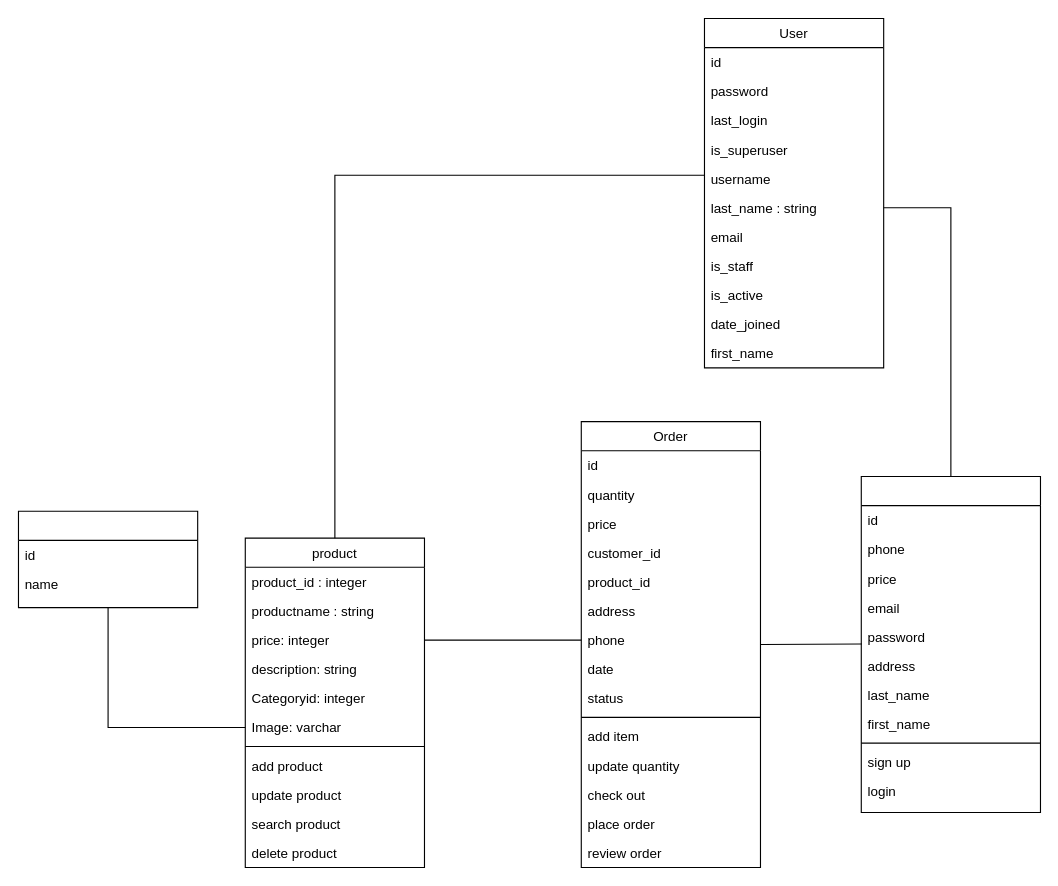
This 1058x886 diagram has some shape labels left out. Here are the shapes that lost their labels. From the top down, the box of each, then its label:
(17, 510, 198, 608): Category
(860, 475, 1040, 813): Customer
